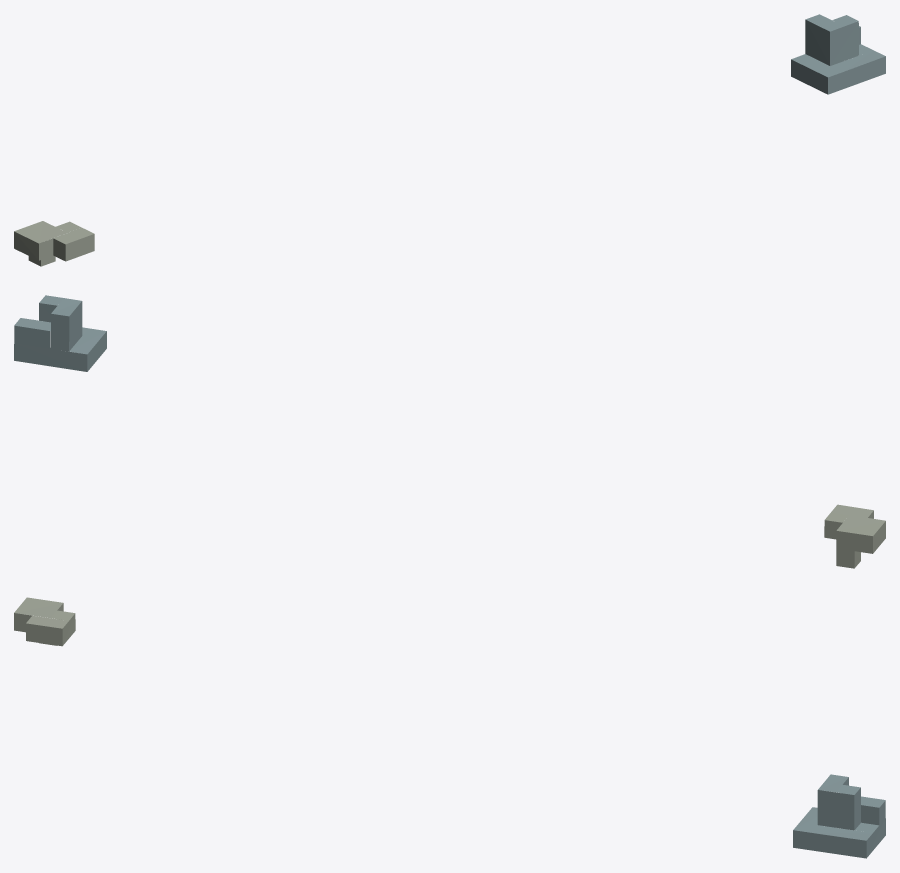
3 views of the same model, one above another, from view 1: azimuth 30°, elevation 25°; view 2: azimuth 150°, elevation 25°; view 3: azimuth 330°, elevation 25° (orthographic). The views are drawn at different scales.
Parts seen in each view (by area): view 1: measured-industrial; view 2: measured-industrial; view 3: measured-industrial.
Part boxes in pixels (x1,y1,x2,y2): measured-industrial: (14,14,885,266); measured-industrial: (14,295,885,568); measured-industrial: (14,597,885,858).
Size of the model in its own units: 77.05 by 4.84 by 5.61.
